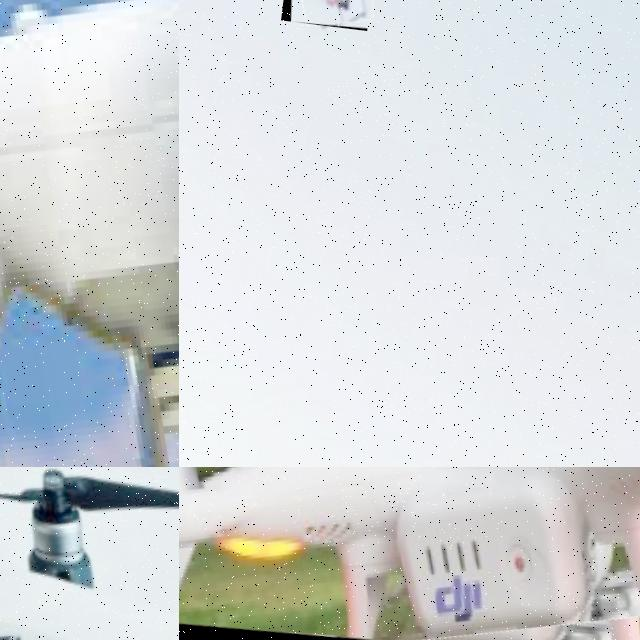0: (179, 467, 640, 640), (280, 0, 381, 31)
drone: (0, 0, 179, 467), (0, 467, 179, 640)
